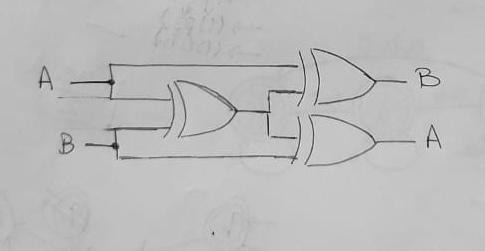XOR: (289, 43, 383, 108), (290, 112, 384, 175), (161, 78, 241, 144)
